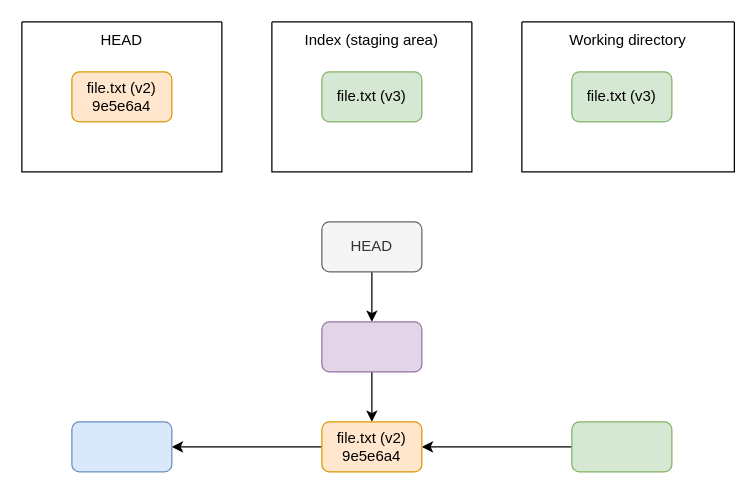
The diagram is 756 pixels wide and 494 high, and some of its shapes have lost their labels. The centre of each missing label's shape, as x and y in pixels:
file.txt (v1) eb43bf8: the point at 121,446
file.txt (v3) 38eb946: the point at 621,446
Master: the point at 371,346
